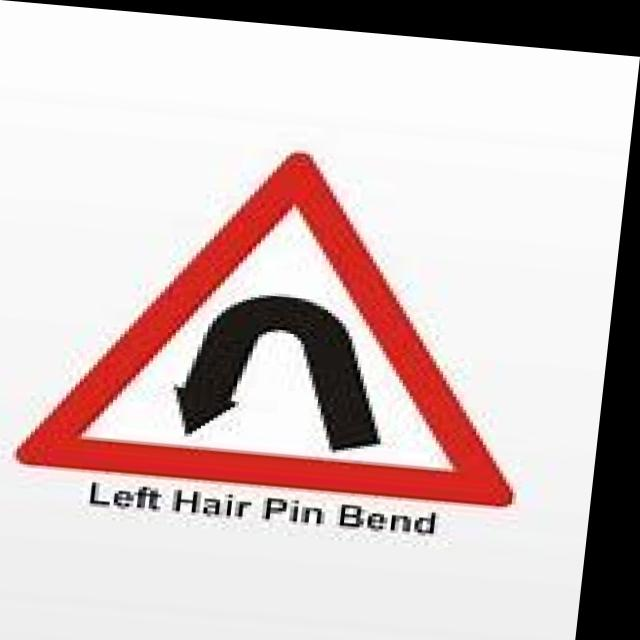LEFT_HAIR_PIN_BEND: (20, 126, 556, 499)
